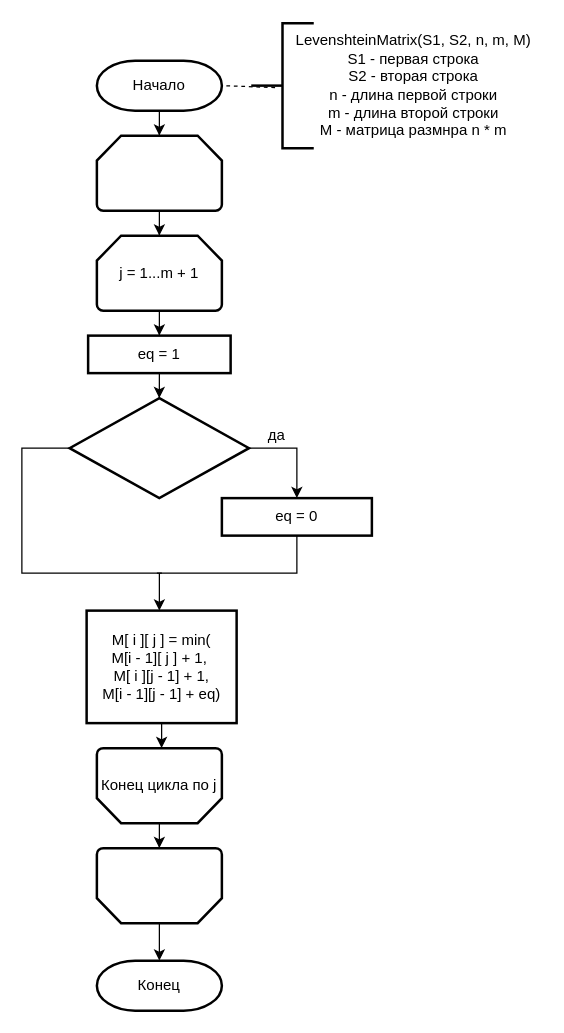
Some shapes in this 564 by 1033 pixel diagram are drawn without their labels. Here are the shapes that lost their labels. From the top down, the centre of each, then its label:
At [158,172]: "i = 1...n + 1".
At [159,447]: "S1[n - 1] == S2[m - 1]?".
At [158,885]: "Конец цикла по i".
